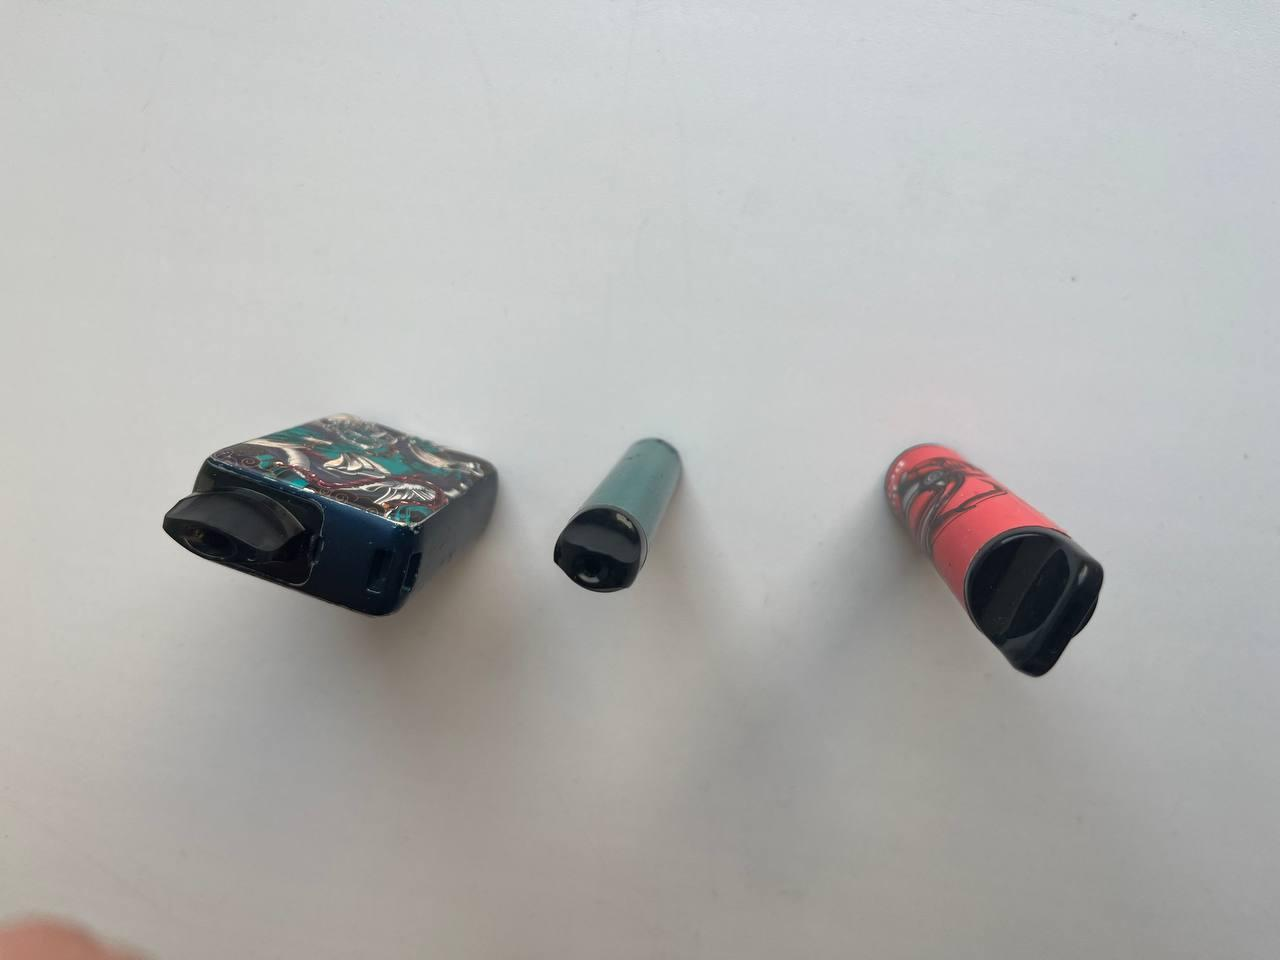Vape: (162, 416, 497, 615), (884, 444, 1103, 677), (554, 438, 682, 592)
